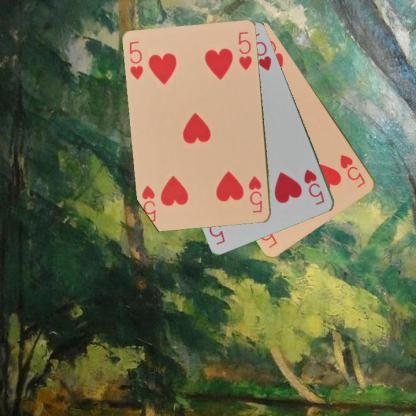5h: (337, 152, 367, 189), (301, 166, 326, 207), (127, 39, 145, 81), (246, 174, 264, 214)
